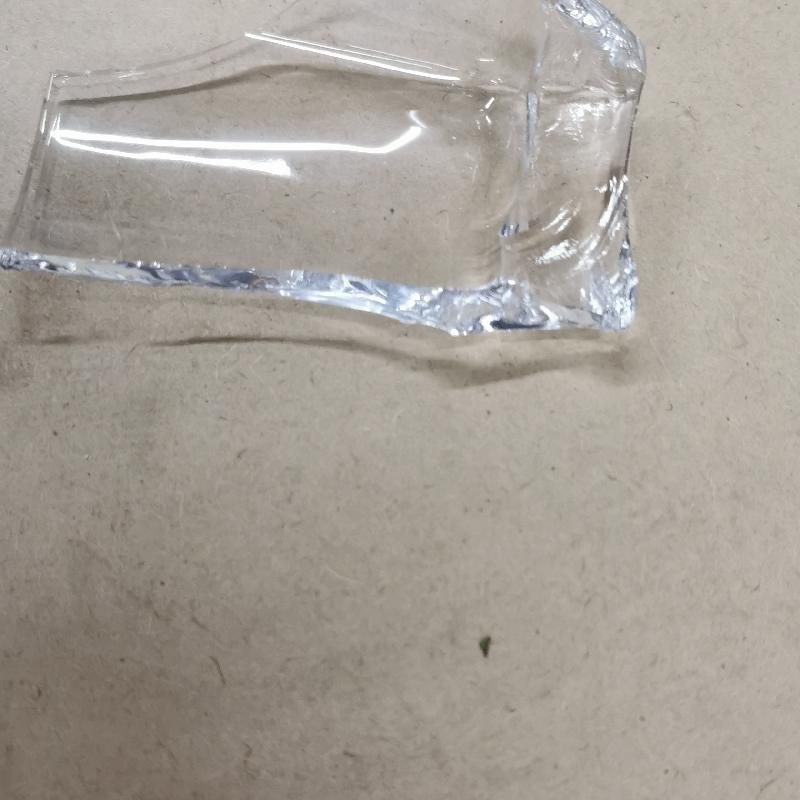glass: (6, 9, 645, 341)
